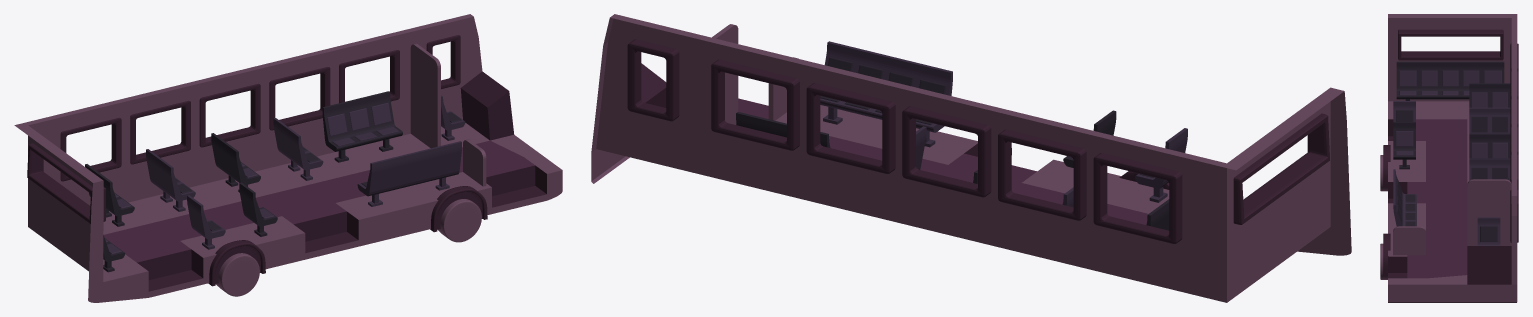
Rendered from bus_Oscuro.fbx.
3 renders of one model, left to right at view 1: azimuth 30°, elevation 25°; view 2: azimuth 150°, elevation 25°; view 3: azimuth 270°, elevation 25°, orthographic. The views are drawn at different scales.
Visible parts, largest first — view 1: Bus, Cube.001, Cube.014, Cube.003, Cilindro, Cube.002, Cube.008, Cube.006, Cube.007, Cube.011, Cube.009, Cube.005 (+2 smaller); view 2: Bus, Cube.001, Cube.003, Cube.009, Cube.014, Cube.005; view 3: Bus, Cube.013, Cube.001, Cube.006, Cube.007, Cube.005, Cube.011, Cube.008, Cube.003, Cube.012, Cube.002, Cube.009 (+1 smaller).
Part boxes in pixels (box(x1,y1,x2,y2)): Bus: box(14, 14, 562, 302); Cube.001: box(27, 35, 460, 223); Cube.014: box(322, 91, 402, 162); Cube.003: box(357, 141, 461, 206); Cilindro: box(216, 199, 481, 296); Cube.002: box(208, 186, 487, 286); Cube.008: box(273, 118, 323, 180); Cube.006: box(146, 149, 195, 211); Cube.007: box(211, 133, 260, 192); Cube.011: box(239, 182, 277, 236); Cube.009: box(187, 195, 225, 249); Cube.005: box(85, 164, 134, 226); Bus: box(591, 14, 1351, 302); Cube.001: box(627, 39, 1329, 243); Cube.003: box(820, 41, 952, 147); Cube.009: box(1135, 128, 1187, 202); Cube.014: box(736, 112, 830, 147); Cube.005: box(1146, 199, 1169, 230); Bus: box(1388, 14, 1517, 302); Cube.013: box(1396, 61, 1504, 100); Cube.001: box(1398, 29, 1518, 242); Cube.006: box(1469, 107, 1510, 133); Cube.007: box(1469, 133, 1510, 158); Cube.005: box(1469, 83, 1510, 107); Cube.011: box(1393, 122, 1415, 169); Cube.008: box(1469, 158, 1510, 180); Cube.003: box(1393, 169, 1416, 226); Cube.012: box(1477, 217, 1500, 245); Cube.002: box(1383, 145, 1390, 276); Cube.009: box(1393, 101, 1415, 121).
Bounding box in the file's own units: 739 × 215 × 228.
